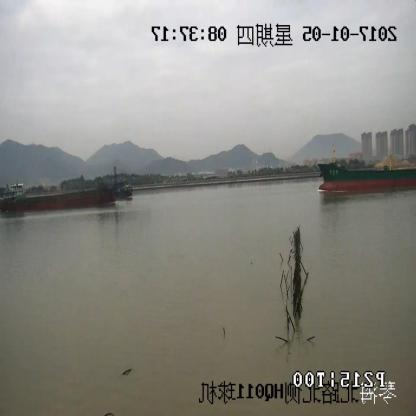Bulk Carrier: (1, 169, 132, 211), (319, 142, 416, 191)
